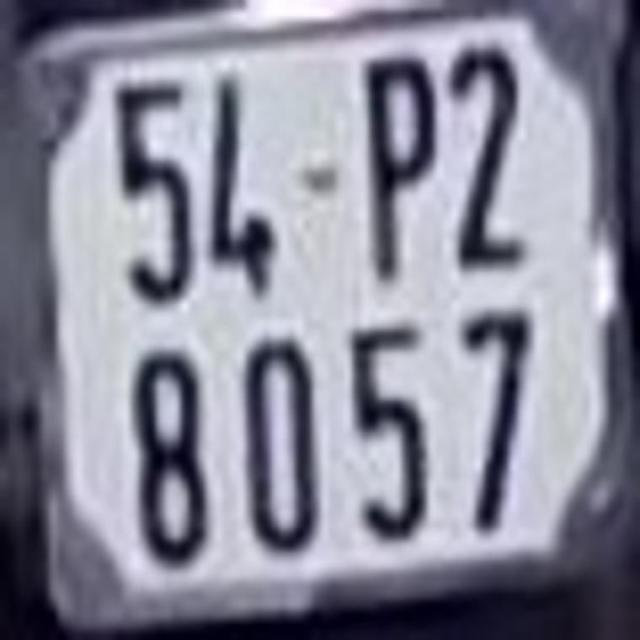0: (245, 334, 319, 554)
2: (450, 44, 530, 268)
4: (208, 74, 278, 300)
5: (113, 79, 194, 305), (352, 324, 431, 542)
7: (462, 308, 531, 535)
8: (134, 349, 208, 568)
P: (368, 54, 438, 283)
